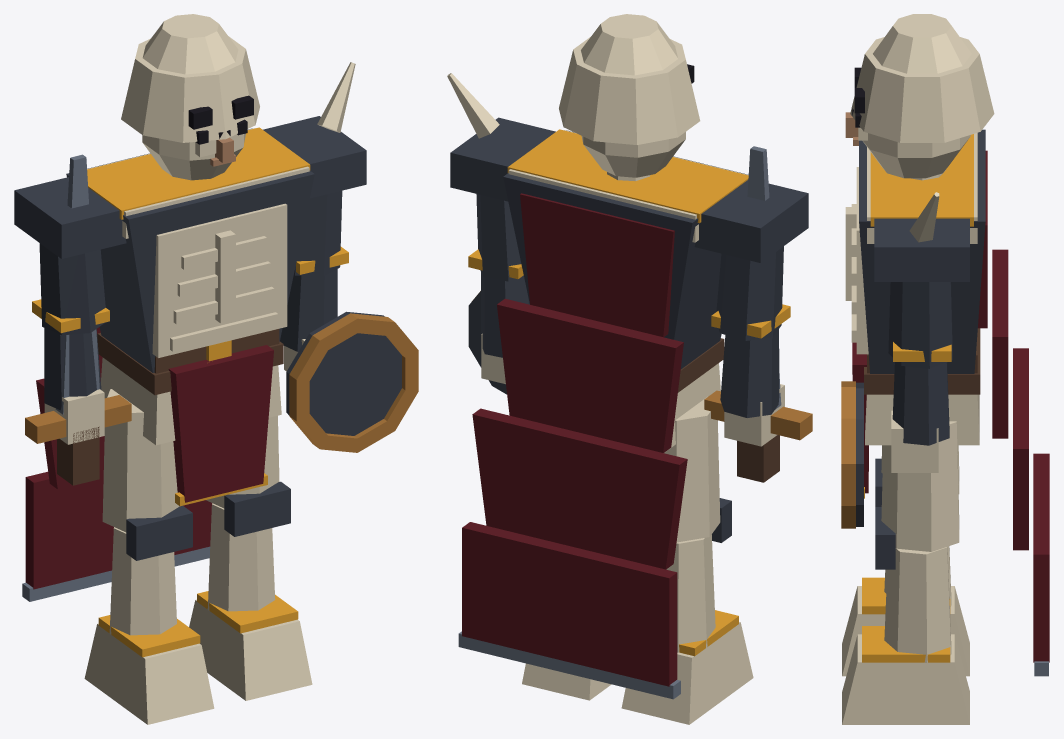
File: skeleton.obj
3 renders of one model, left to right at view 1: azimuth 30°, elevation 25°; view 2: azimuth 150°, elevation 25°; view 3: azimuth 270°, elevation 25°, orthographic.
Visible parts, largest first — view 1: torso, leg_r, leg_l, head, arm_r, offhand, arm_l, cape, weapon, hips; view 2: cape, torso, arm_r, head, leg_r, arm_l, weapon, hips, leg_l, offhand; view 3: leg_l, head, arm_l, torso, cape, hips, leg_r, offhand.
Boxes of the visible parts, x1=… form: torso: x1=66, y1=127, x2=314, y2=506; leg_r: x1=84, y1=389, x2=214, y2=724; leg_l: x1=189, y1=415, x2=312, y2=700; head: x1=121, y1=14, x2=259, y2=180; arm_r: x1=14, y1=177, x2=126, y2=444; offhand: x1=286, y1=311, x2=418, y2=452; arm_l: x1=263, y1=62, x2=366, y2=371; cape: x1=22, y1=327, x2=212, y2=601; weapon: x1=25, y1=154, x2=131, y2=485; hips: x1=97, y1=333, x2=283, y2=445; cape: x1=458, y1=193, x2=687, y2=699; torso: x1=503, y1=129, x2=748, y2=369; arm_r: x1=694, y1=180, x2=808, y2=446; head: x1=559, y1=14, x2=700, y2=181; leg_r: x1=621, y1=396, x2=753, y2=724; arm_l: x1=447, y1=73, x2=555, y2=384; weapon: x1=704, y1=146, x2=812, y2=482; hips: x1=666, y1=338, x2=724, y2=451; leg_l: x1=522, y1=663, x2=611, y2=700; offhand: x1=468, y1=291, x2=506, y2=394; leg_l: x1=842, y1=421, x2=969, y2=724; head: x1=845, y1=14, x2=994, y2=180; arm_l: x1=874, y1=192, x2=969, y2=472; torso: x1=845, y1=129, x2=985, y2=498; cape: x1=978, y1=150, x2=1049, y2=676; hips: x1=864, y1=328, x2=980, y2=445; leg_r: x1=842, y1=445, x2=969, y2=676; offhand: x1=841, y1=381, x2=863, y2=528.
Bounding box in the file's own units: 0.564 × 0.987 × 0.283.
